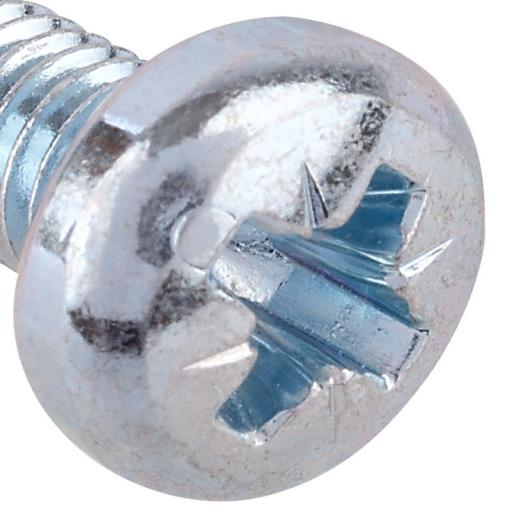Pozidriv: (0, 8, 510, 511)
